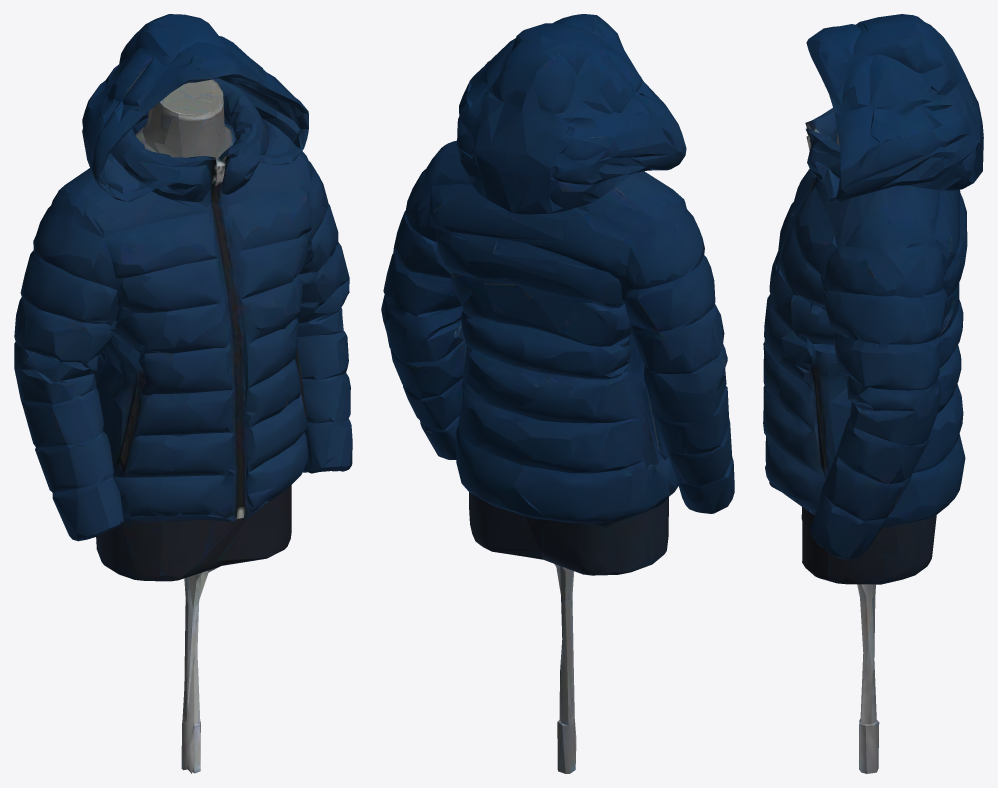
Rendered from jacke.glb.
3 renders of one model, left to right at view 1: azimuth 30°, elevation 25°; view 2: azimuth 150°, elevation 25°; view 3: azimuth 270°, elevation 25°, orthographic.
Visible parts, largest first — view 1: output_unwrapped; view 2: output_unwrapped; view 3: output_unwrapped.
Part boxes in pixels (x1,y1,x2,y2): output_unwrapped: [14, 14, 352, 773]; output_unwrapped: [381, 14, 734, 773]; output_unwrapped: [763, 14, 983, 773].
Size of the model in its own units: 0.8726 by 1.9 by 0.5081.
1 material, 1 textured.
